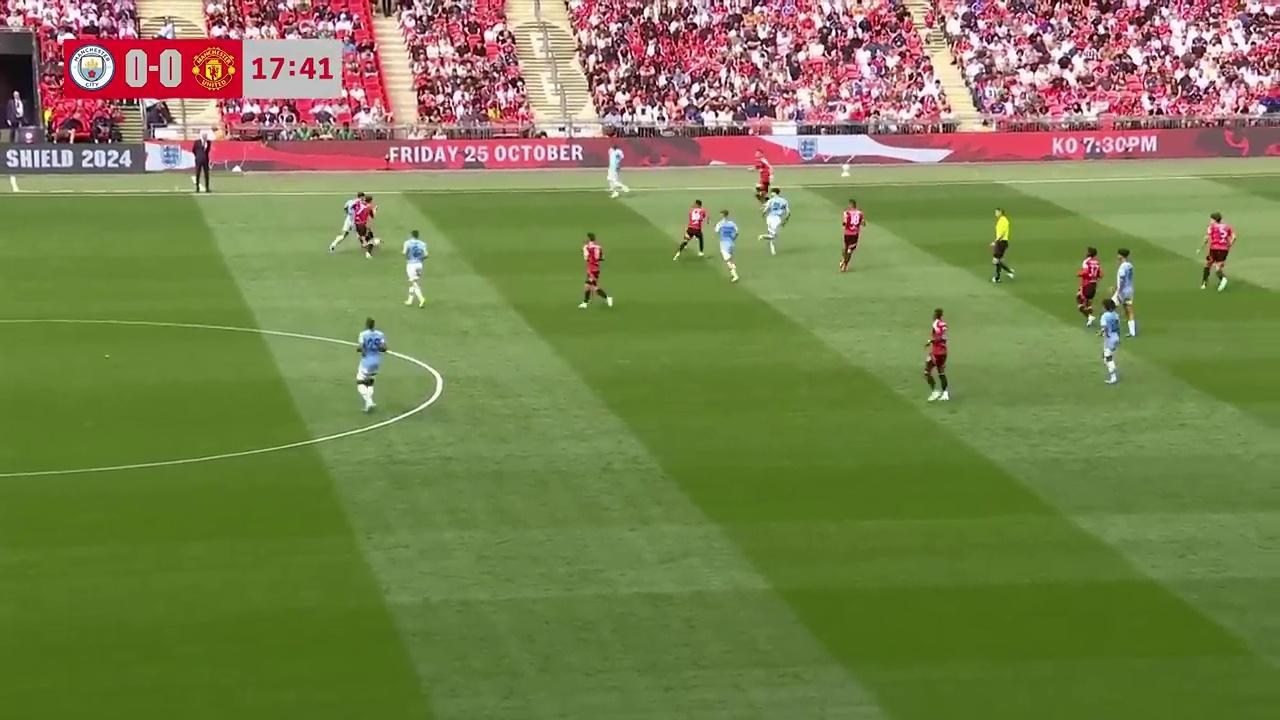player: (355, 316, 386, 413), (1199, 212, 1235, 291), (330, 192, 373, 256), (578, 233, 613, 310), (672, 198, 711, 261), (923, 308, 949, 401), (1097, 295, 1122, 384), (1076, 246, 1103, 326), (1111, 249, 1135, 335), (401, 229, 427, 307), (760, 187, 789, 255), (839, 199, 865, 272), (715, 208, 739, 282), (351, 192, 378, 257), (753, 159, 773, 215), (606, 143, 626, 197)
referee: (989, 207, 1015, 282)
